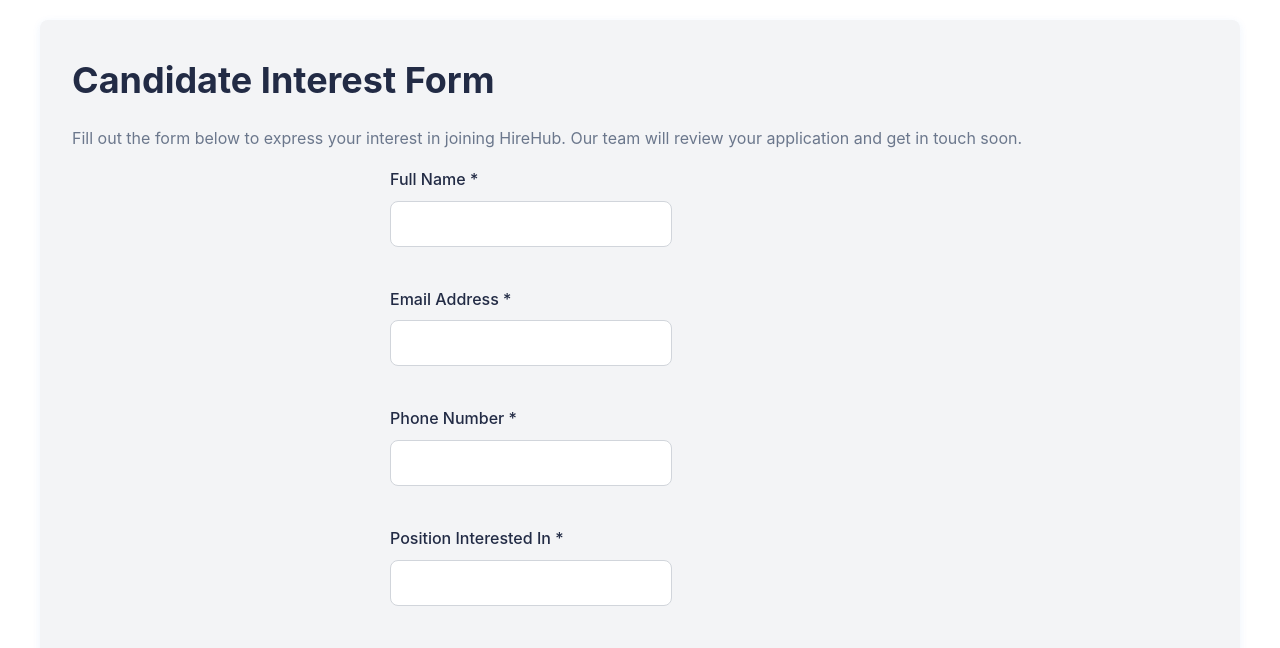
it: InterestForm › shows validation error for invalid phone
Type "abc123" into the field labelled "Phone Number *". click: (531, 463)
box: [390,440,672,486]
(page scrolled)
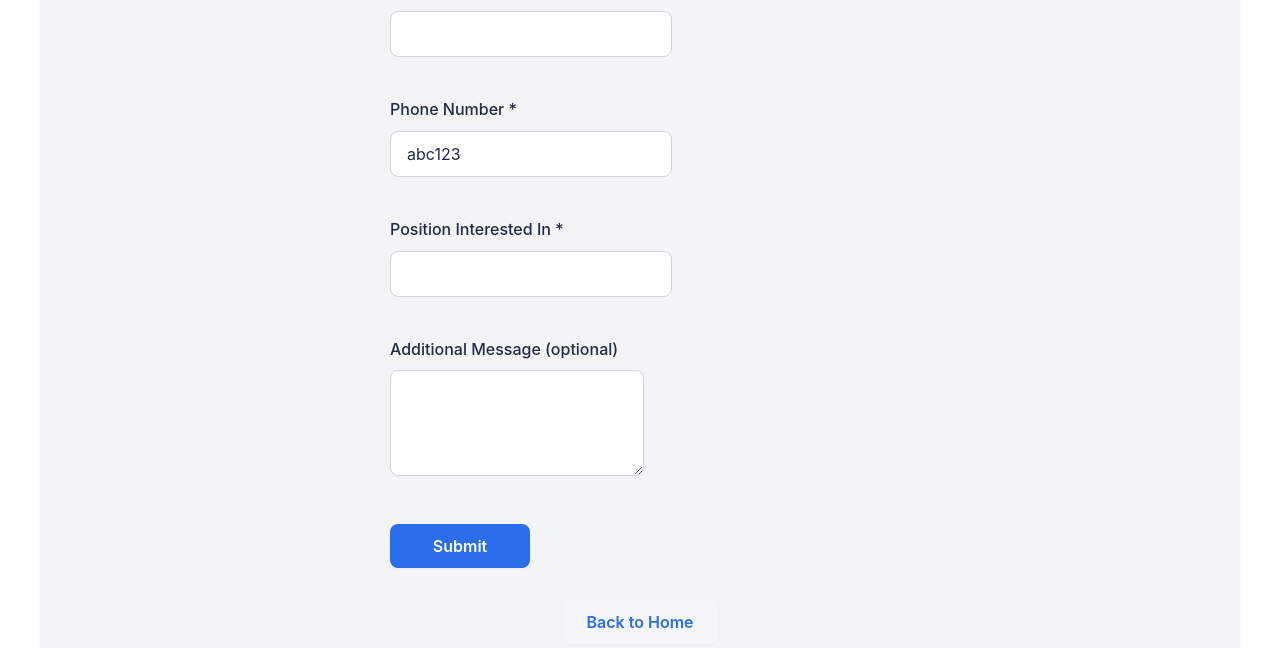
Click the button "Submit". click: (460, 546)
box: [390,524,530,568]
(page scrolled)
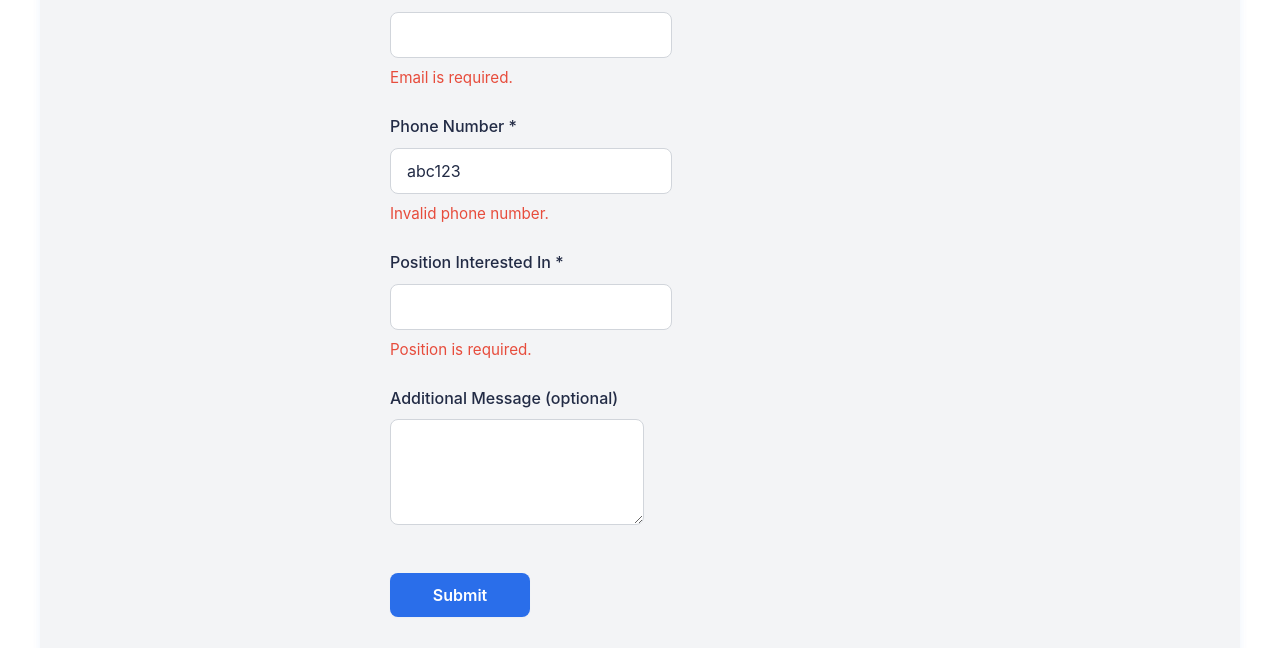
expect the text "Invalid phone number." is shown: met, box [390,204,549,223]
